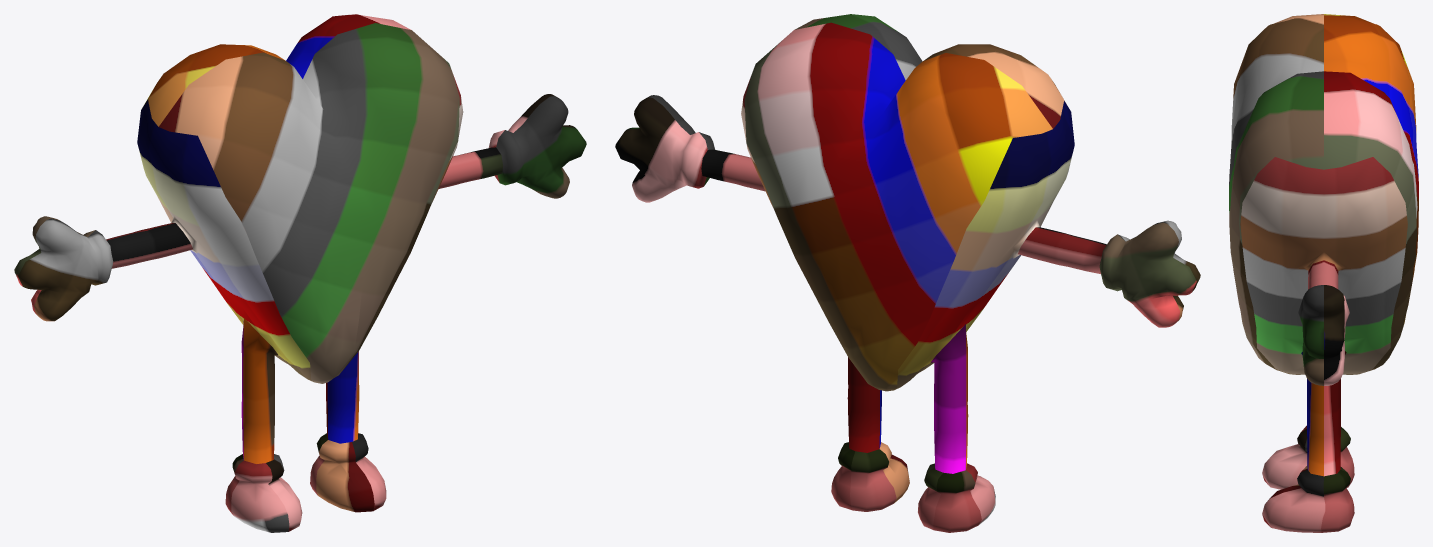
File: HeartCellLow.fbx
The picture shows the model from 3 angles, left to right: view 1: azimuth 30°, elevation 25°; view 2: azimuth 150°, elevation 25°; view 3: azimuth 270°, elevation 25°; orthographic projection. The views are drawn at different scales.
Parts seen in each view (by area): view 1: HeartLow; view 2: HeartLow; view 3: HeartLow.
Boxes of the visible parts, x1,y1,x2,y2 form: HeartLow: (14,14,586,532); HeartLow: (615,14,1200,532); HeartLow: (1229,14,1418,532).
Size of the model in its own units: 552 by 429 by 164.
